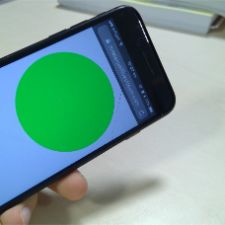focus: (14, 49, 118, 151)
